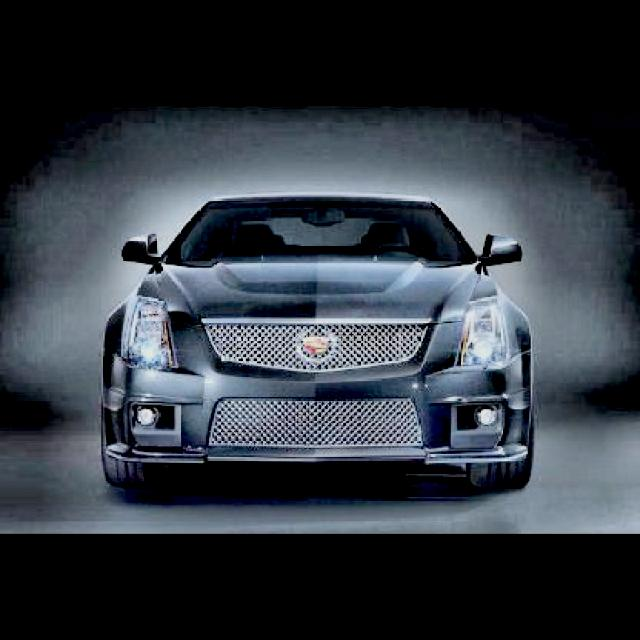black: (100, 195, 536, 497)
